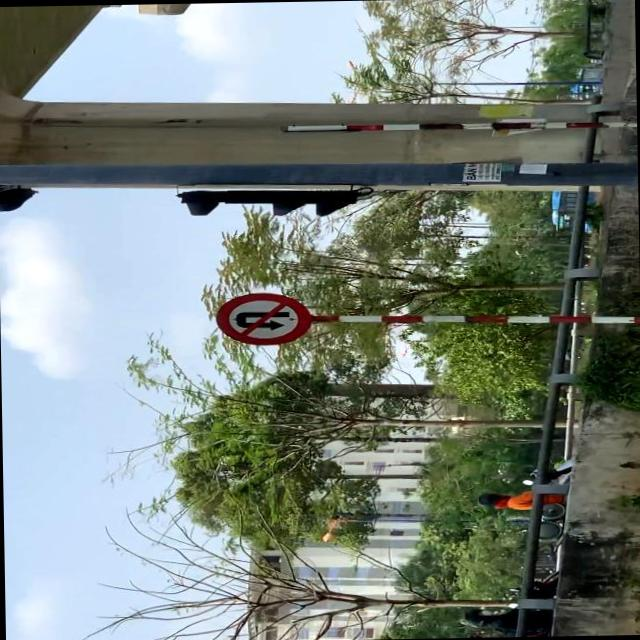P-124a1: (216, 291, 309, 343)
